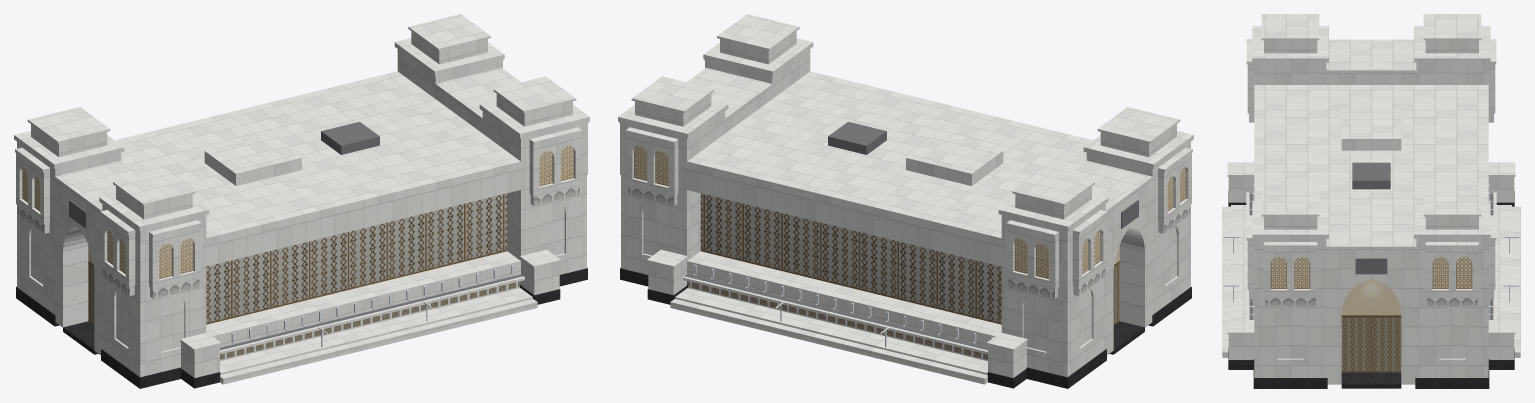
Rendered from haram-restroom-a.glb.
3 renders of one model, left to right at view 1: azimuth 30°, elevation 25°; view 2: azimuth 150°, elevation 25°; view 3: azimuth 270°, elevation 25°, orthographic. The views are drawn at different scales.
Parts seen in each view (by area): view 1: Restroom; view 2: Restroom; view 3: Restroom.
Boxes of the visible parts, x1,y1,x2,y2 form: Restroom: [14, 14, 589, 388]; Restroom: [618, 14, 1193, 388]; Restroom: [1222, 14, 1520, 388].
Bounding box in the file's own units: 23.72 × 8.85 × 14.
10 materials, 8 textured.
